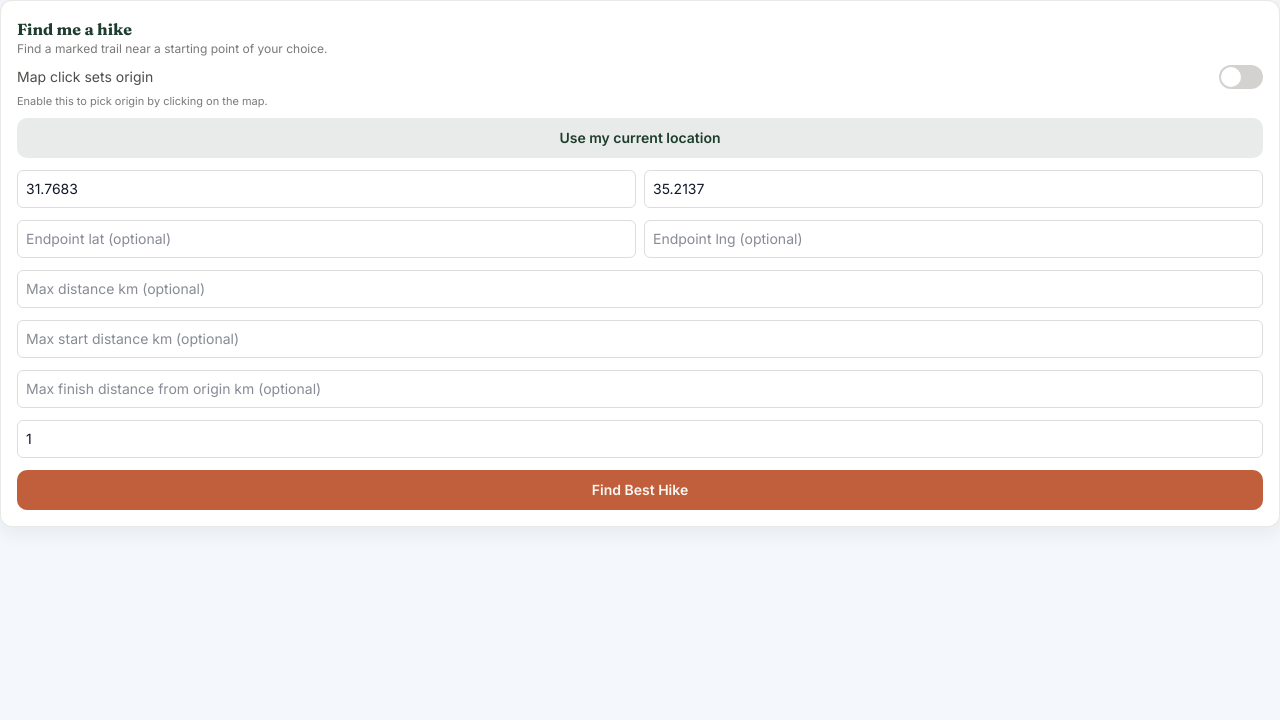
HikeSearchPanel validation › rejects partial endpoint input
This screenshot has width=1280, height=720.
Type "31.7" into the field with placeholder "Endpoint lat (optional)" at (326,238), box [17, 220, 636, 258]
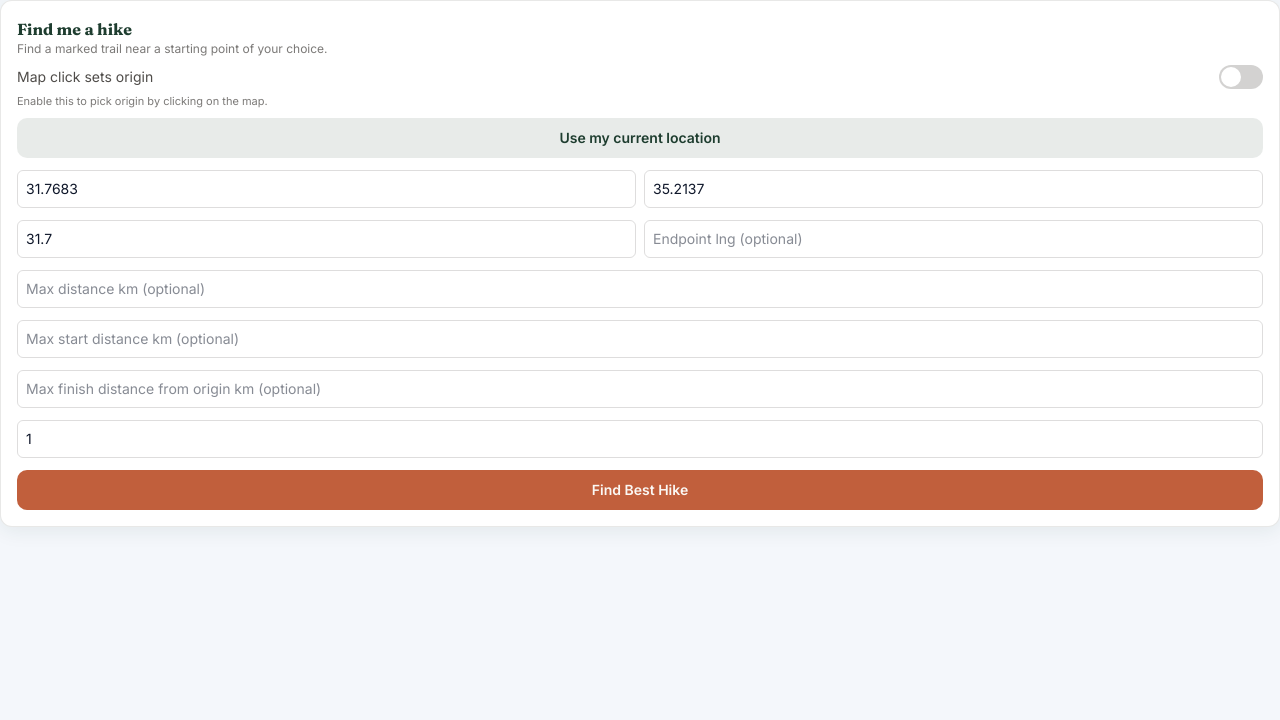
Click the button "Find Best Hike" at (640,490), box [17, 470, 1263, 510]
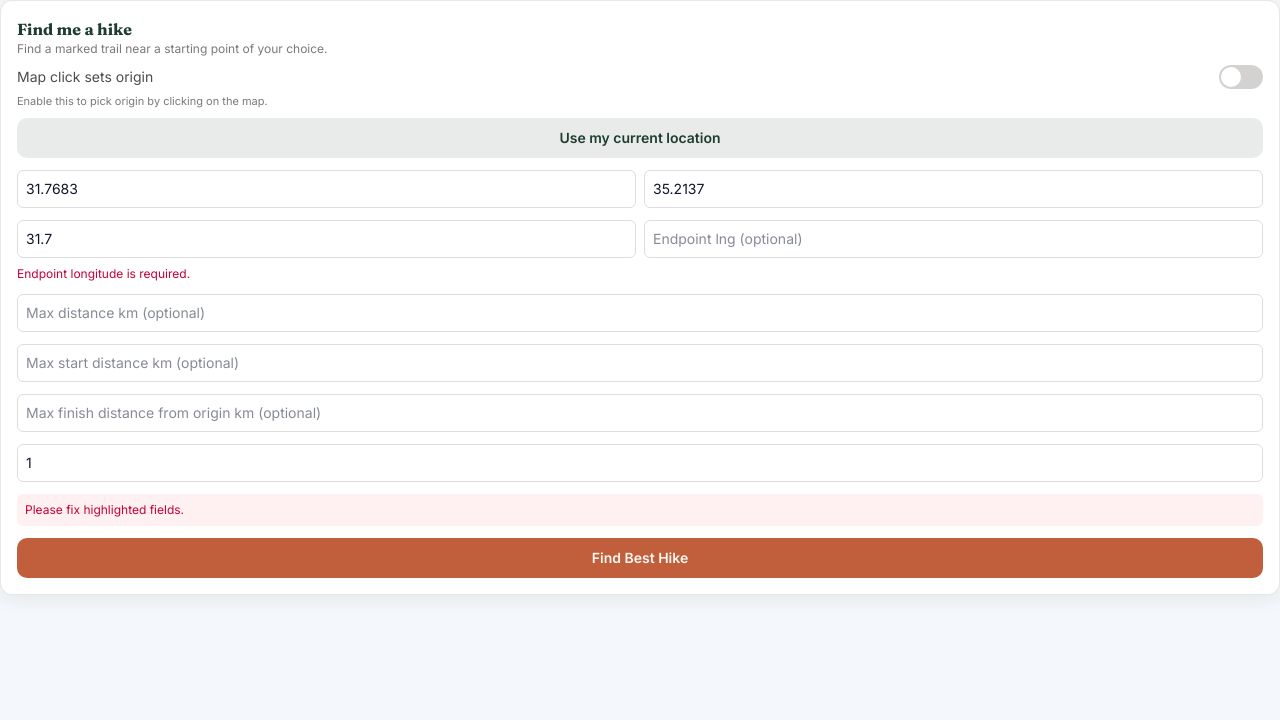
Expected: the text "Endpoint longitude is required." is shown, [17, 266, 190, 280]
